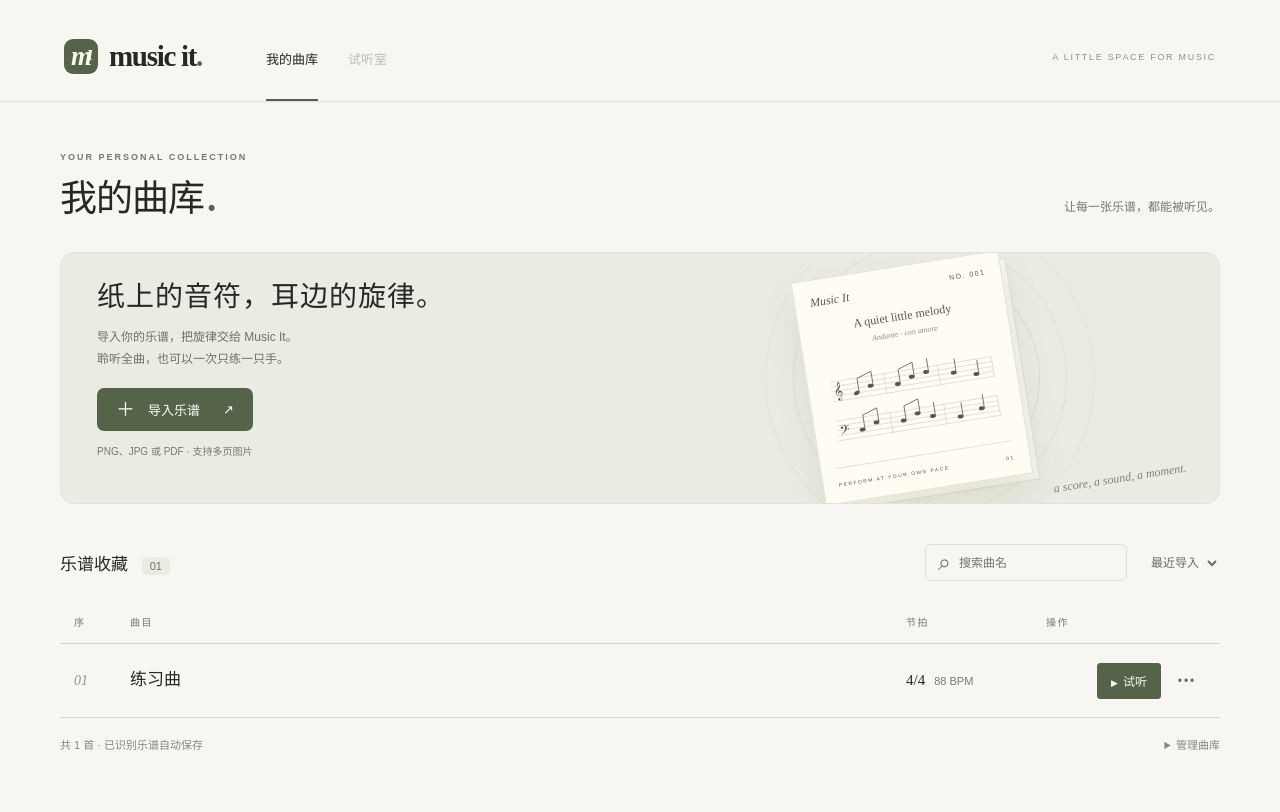
Scenario: App › enables seeking only during playback and keeps playing after a seek
Click the button with test id "catalog-select-first" at coordinates (156, 681), box left=130, top=661, right=181, bottom=700
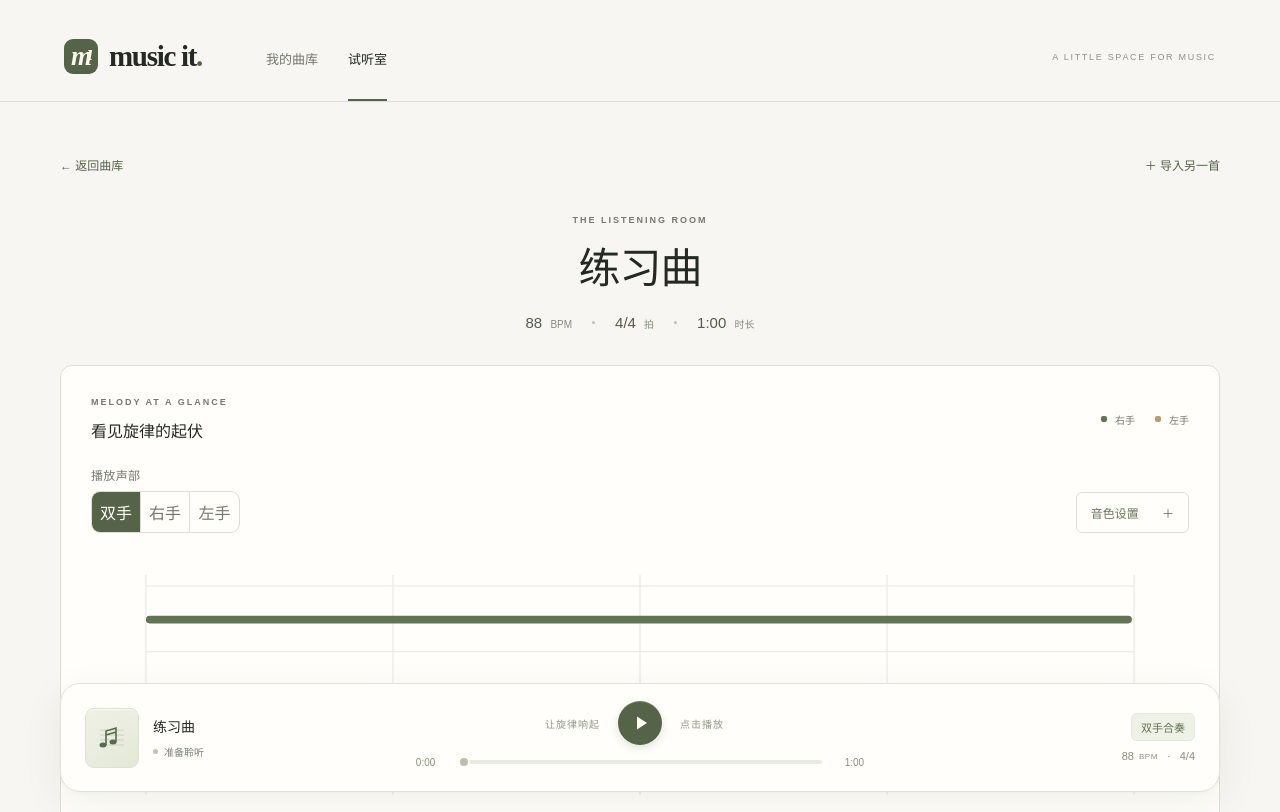
Expected: the slider named "播放进度" is disabled, left=458, top=750, right=822, bottom=774
Click the button with test id "main-play" at coordinates (640, 723), box left=618, top=701, right=662, bottom=745
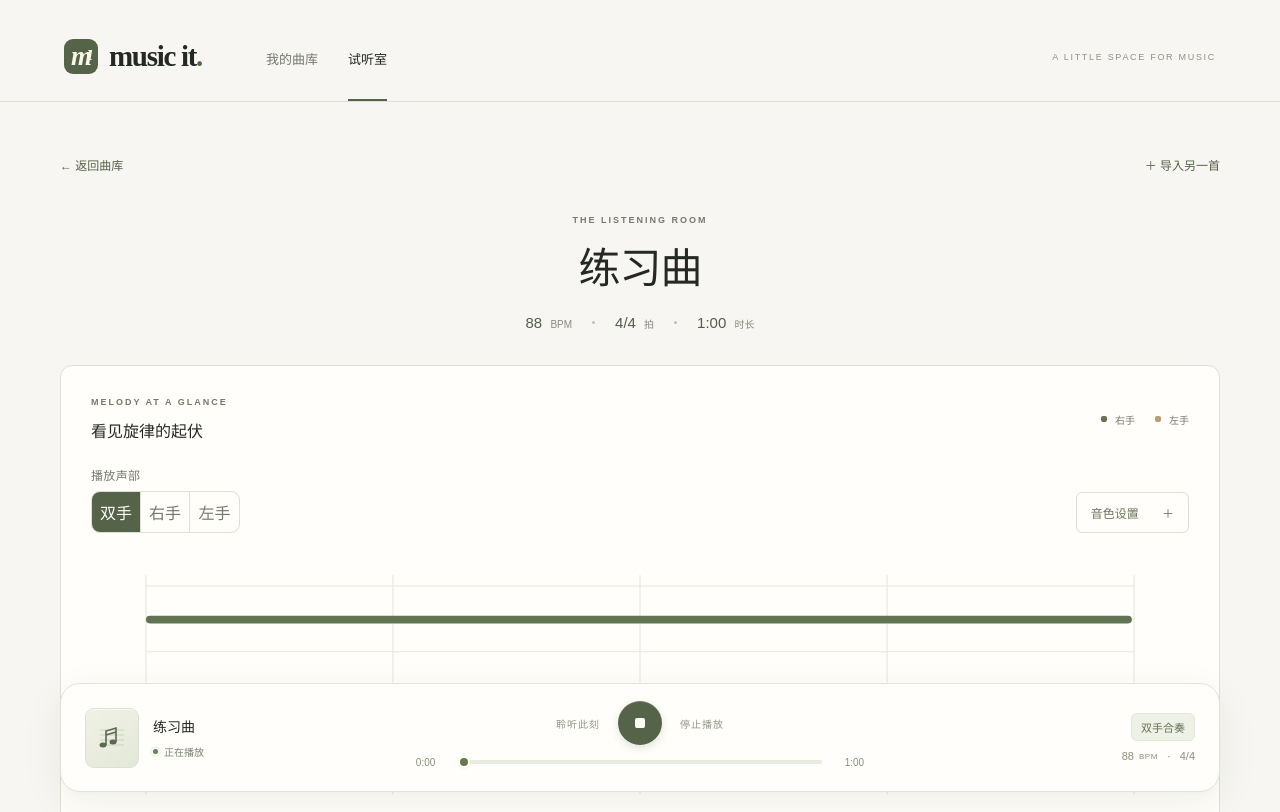
Expected: the slider named "播放进度" is enabled
Set the slider named "播放进度" to "30" at coordinates (640, 762), box left=458, top=750, right=822, bottom=774
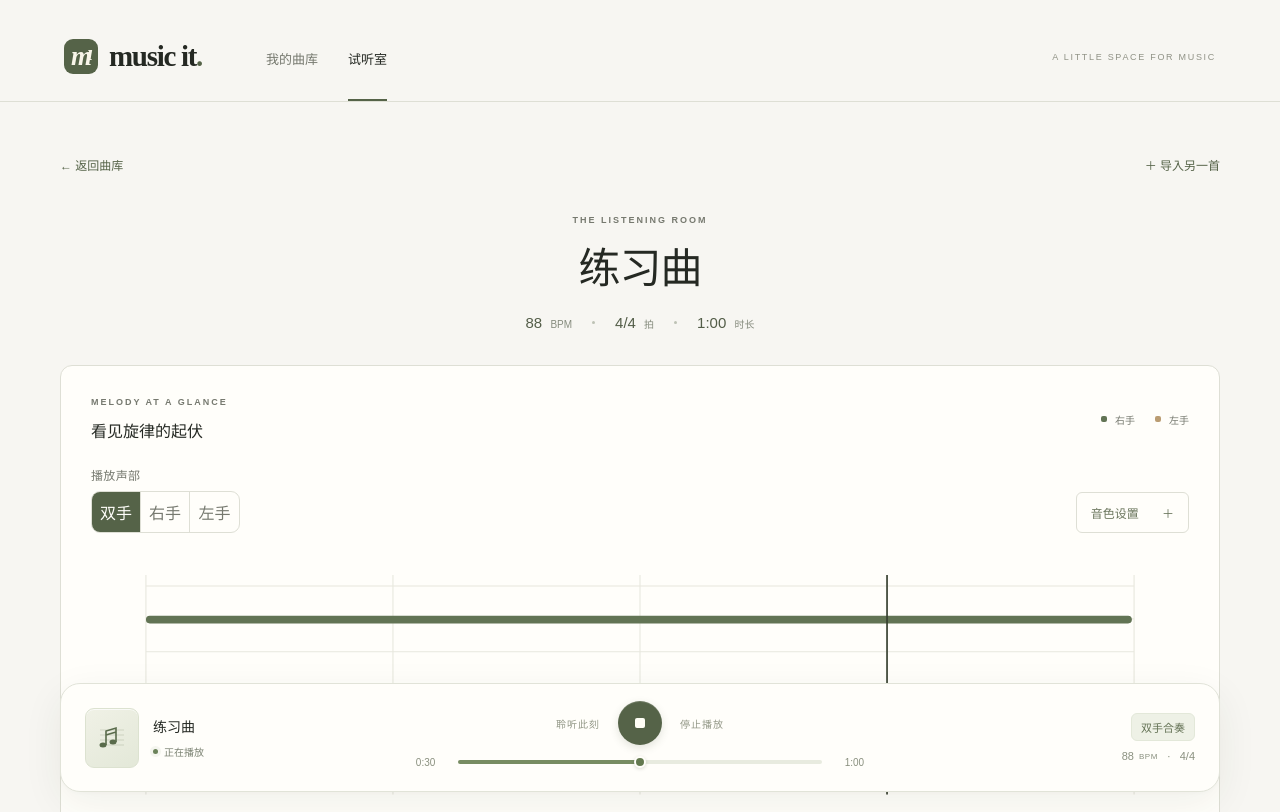
Expected: the element with class "track-progress" shows "0:30", left=416, top=756, right=435, bottom=768
Set the slider named "播放进度" to "5" at coordinates (495, 762), box left=458, top=750, right=822, bottom=774
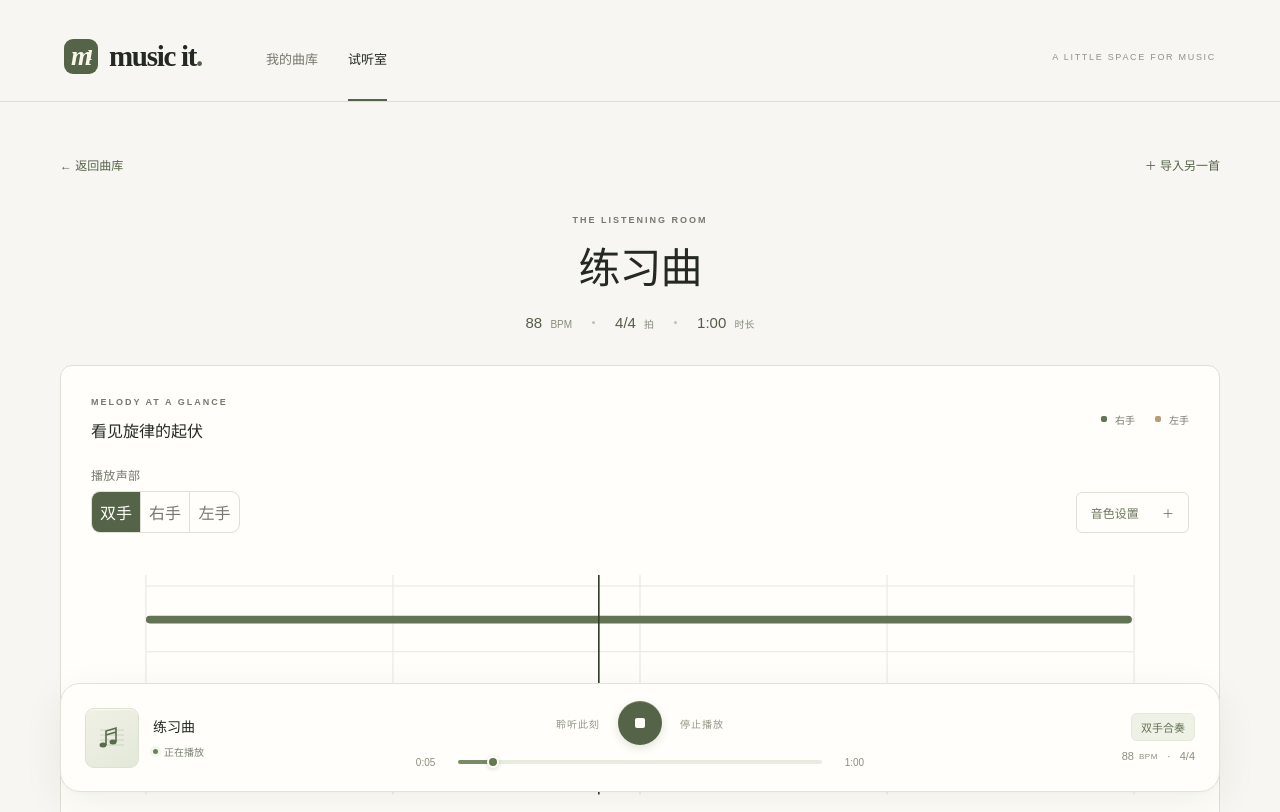
Expected: the button with test id "main-stop" is shown
Click the button with test id "main-stop" at coordinates (640, 723), box left=618, top=701, right=662, bottom=745
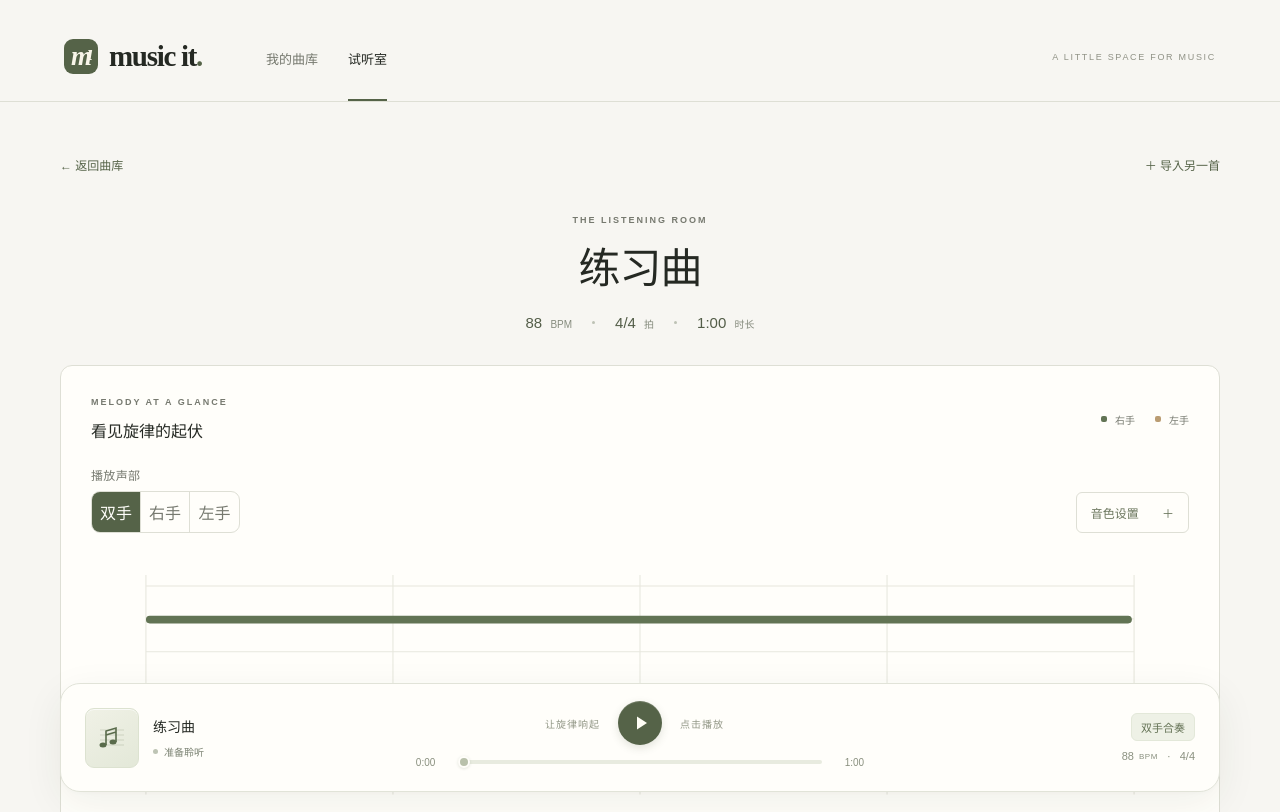
Expected: the slider named "播放进度" is disabled, left=458, top=750, right=822, bottom=774
